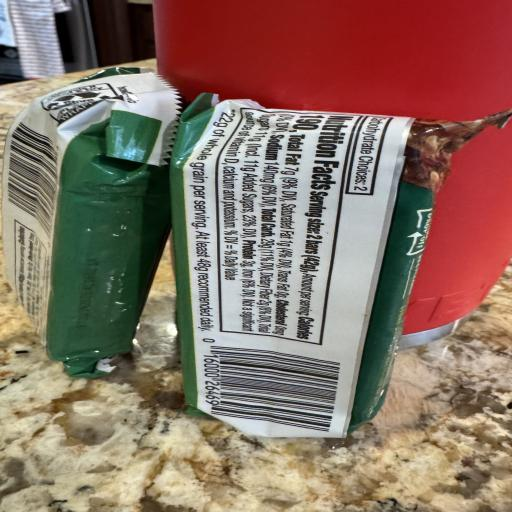granola: (171, 95, 511, 436), (3, 68, 179, 377)
